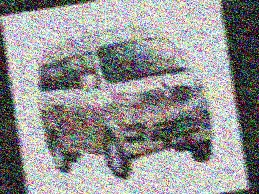van: (22, 9, 224, 188)
